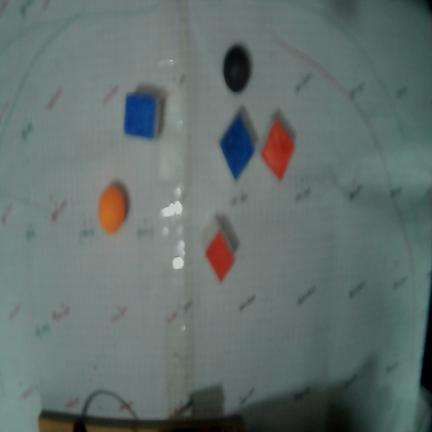circle_blue: (223, 44, 251, 92)
circle_orange: (98, 185, 126, 233)
rectangle_orange: (124, 93, 157, 137), (206, 230, 234, 281)
square_blue: (220, 114, 254, 179)
square_orange: (261, 118, 294, 179)
